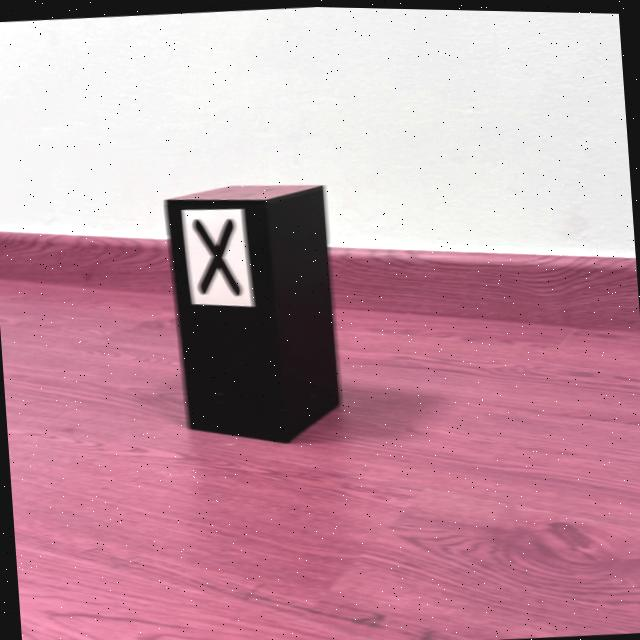X: (195, 218, 240, 293)
